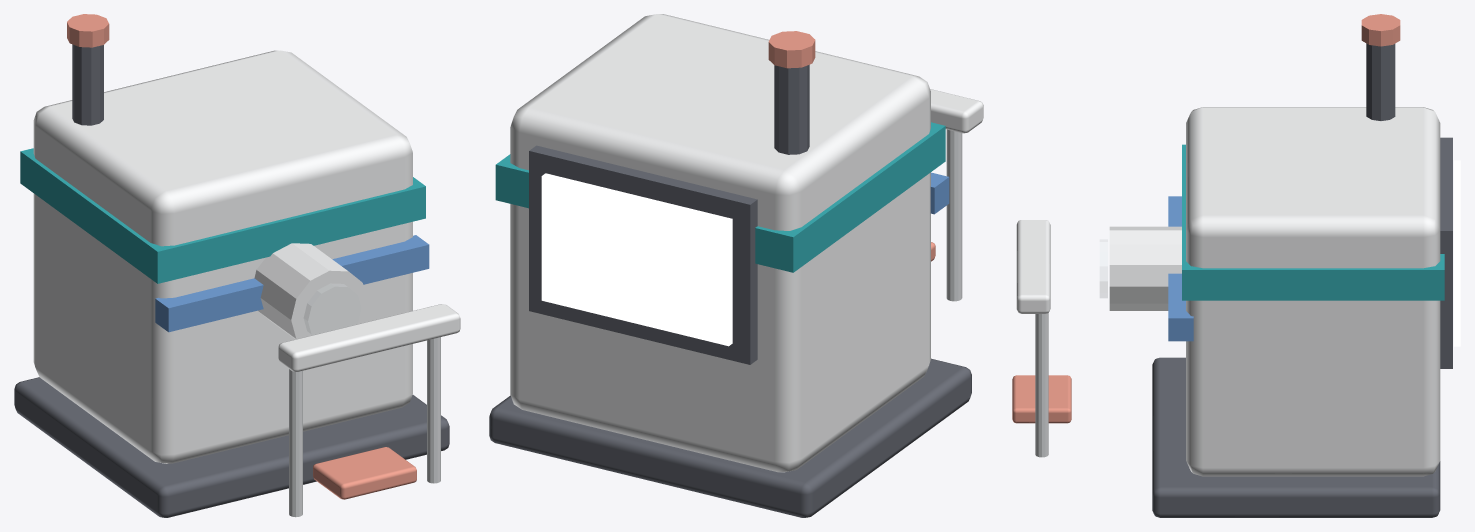
3 views of the same model, side by side, from view 1: azimuth 30°, elevation 25°; view 2: azimuth 150°, elevation 25°; view 3: azimuth 270°, elevation 25° (orthographic). The views are drawn at different scales.
Visible parts, largest first — view 1: autorefractor; view 2: autorefractor; view 3: autorefractor.
Boxes of the visible parts, bbox=[...] form: autorefractor: bbox=[14, 14, 460, 517]; autorefractor: bbox=[489, 14, 983, 517]; autorefractor: bbox=[1012, 14, 1460, 517].
Size of the model in its own units: 0.38 by 0.5 by 0.529.
